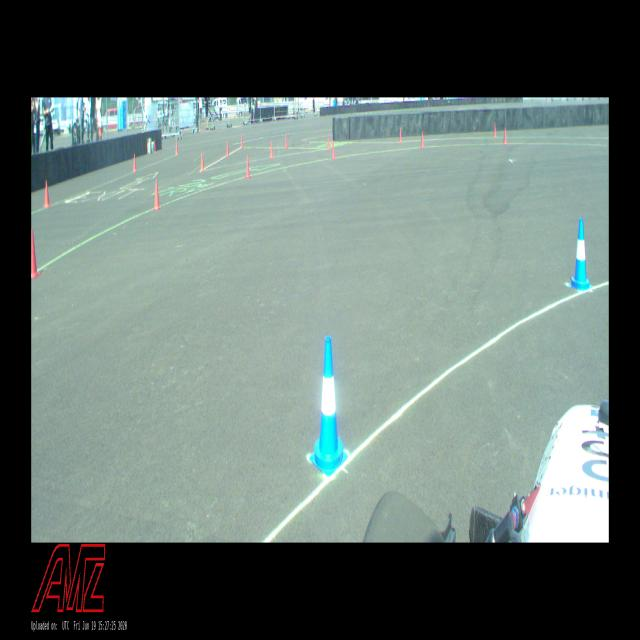blue_cone: (310, 334, 348, 476), (570, 218, 592, 291)
unknown_cone: (31, 228, 41, 280), (152, 178, 162, 211), (42, 180, 52, 210), (244, 154, 252, 177), (200, 151, 206, 172), (132, 153, 138, 173), (502, 127, 508, 144), (420, 129, 425, 149), (331, 139, 336, 159), (269, 140, 274, 158), (326, 133, 331, 149), (493, 122, 497, 138), (398, 127, 402, 143), (284, 133, 288, 149), (175, 140, 179, 154), (226, 141, 229, 157), (240, 134, 243, 148)
